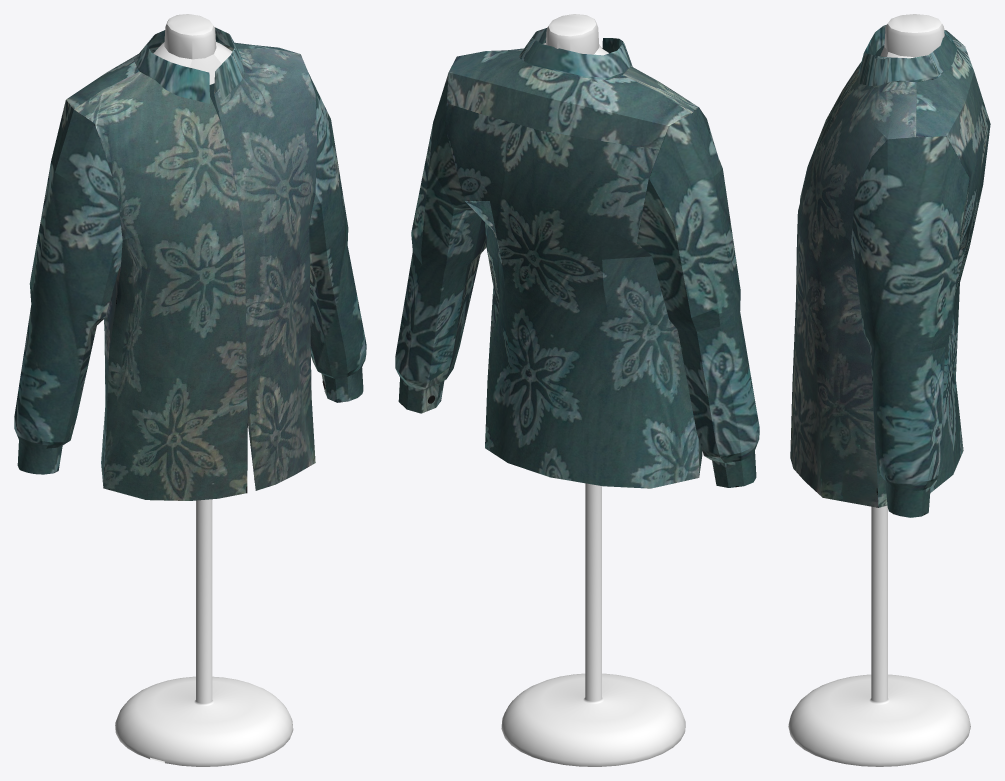
3 views of the same model, side by side, from view 1: azimuth 30°, elevation 25°; view 2: azimuth 150°, elevation 25°; view 3: azimuth 270°, elevation 25° (orthographic). The views are drawn at different scales.
Parts seen in each view (by area): view 1: Kemeja, stand_3, Hanger; view 2: Kemeja, stand_3, Hanger; view 3: Kemeja, stand_3, Hanger.
Boxes of the visible parts, x1,y1,x2,y2 form: Kemeja: [14, 27, 366, 500]; stand_3: [115, 499, 293, 766]; Hanger: [153, 14, 232, 84]; Kemeja: [395, 28, 759, 488]; stand_3: [501, 483, 685, 766]; Hanger: [543, 14, 608, 55]; Kemeja: [790, 25, 990, 517]; stand_3: [788, 505, 970, 766]; Hanger: [880, 14, 944, 58].
Bounding box in the file's own units: 221 × 425 × 110.
2 materials, 1 textured.
